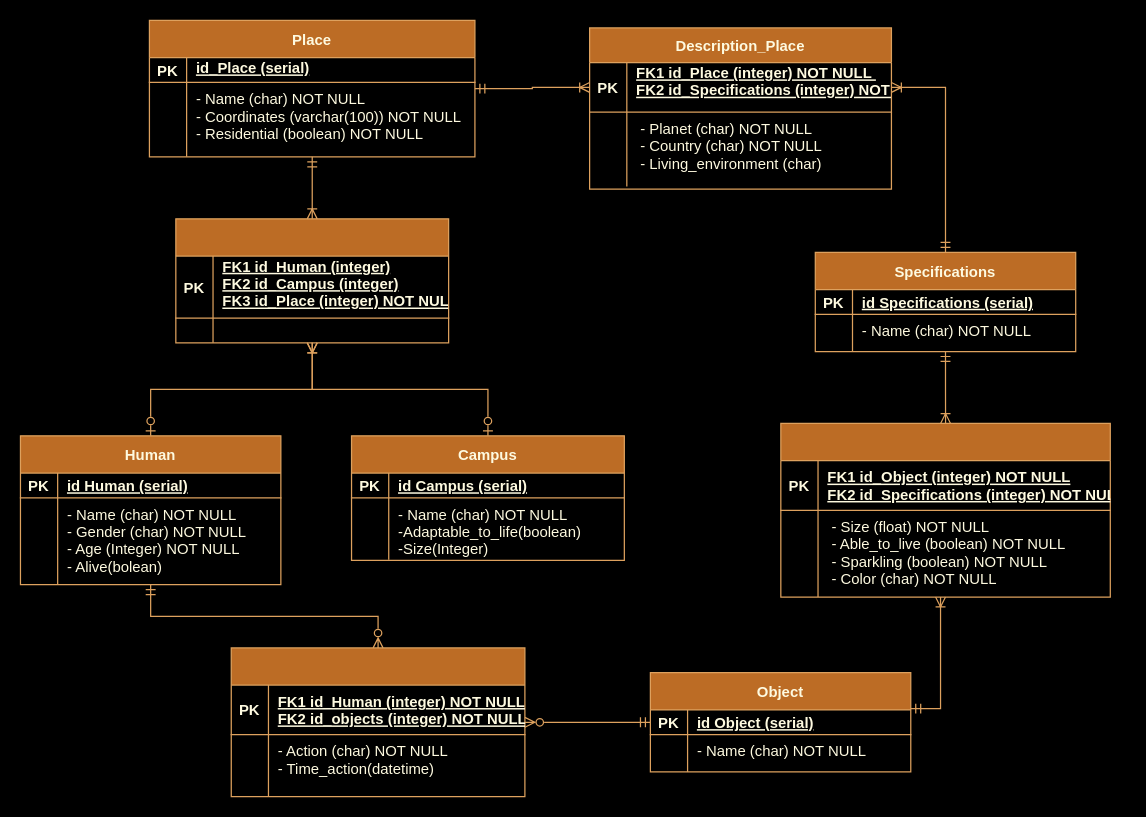
Some shapes in this 1146 by 817 pixel diagram are drawn without their labels. The shapes that lost their labels are listed below. From the top down, each one's box as (x1, y1, x2, y2) in pixels, then its label:
(175, 218, 449, 343): Location
(780, 422, 1110, 597): Description_Object
(230, 647, 525, 797): Actions_human
